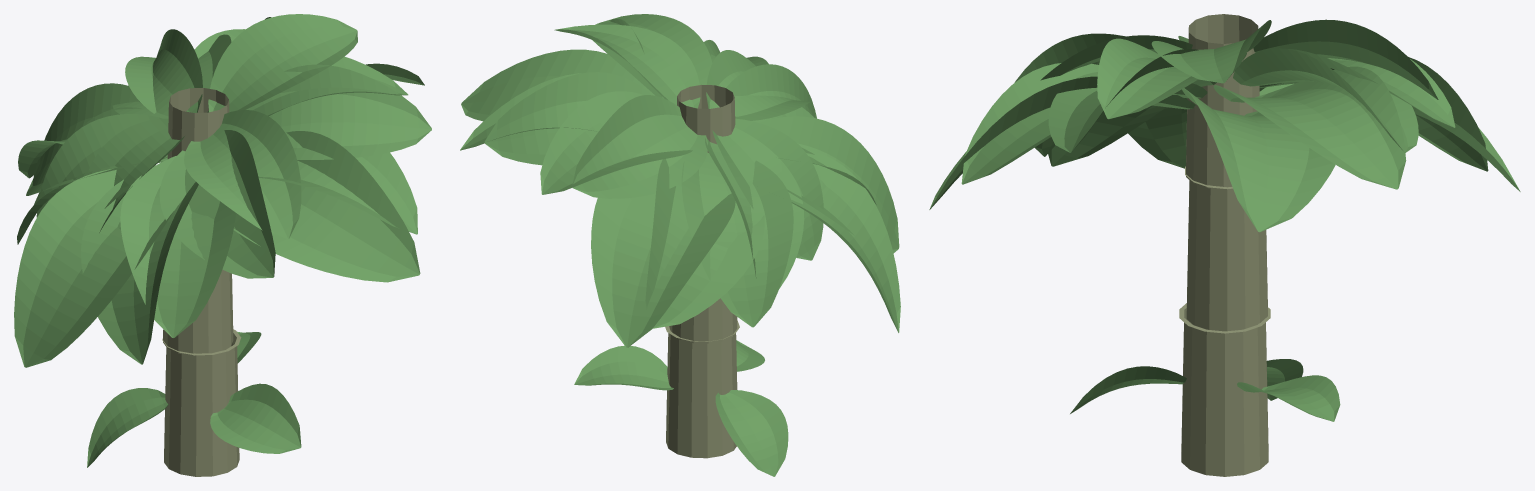
The model's file is banana.glb.
3 renders of one model, left to right at view 1: azimuth 30°, elevation 25°; view 2: azimuth 150°, elevation 25°; view 3: azimuth 270°, elevation 25°, orthographic. The views are drawn at different scales.
Visible parts, largest first — view 1: banana; view 2: banana; view 3: banana.
Boxes of the visible parts, x1,y1,x2,y2 form: banana: [14, 14, 431, 476]; banana: [460, 14, 900, 476]; banana: [929, 14, 1520, 476].
Bounding box in the file's own units: 0.9896 × 0.9055 × 1.
